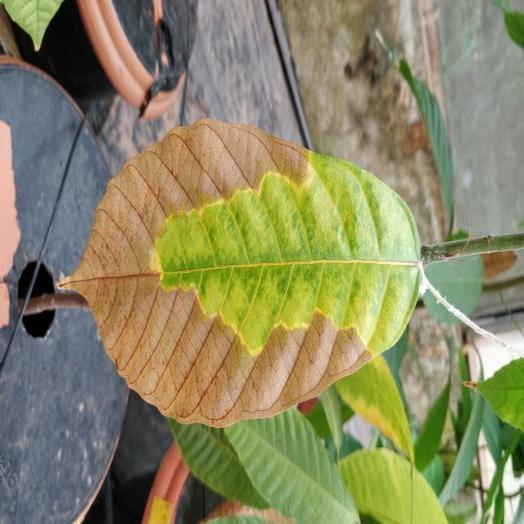Potassium: (58, 120, 424, 426)
